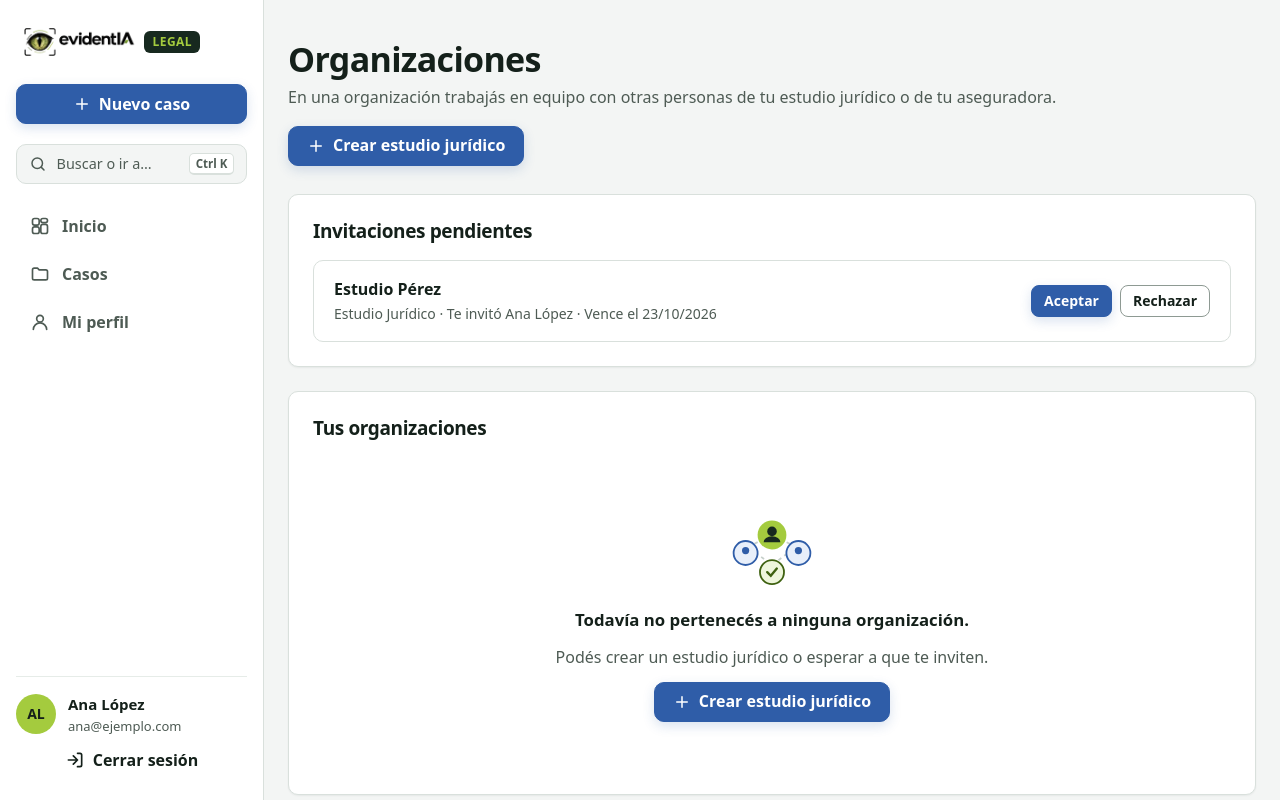
it: mis organizaciones › un error al responder se muestra
Click the button with aria-label "Aceptar la invitación" at (1072, 301), box [1031,285,1112,317]
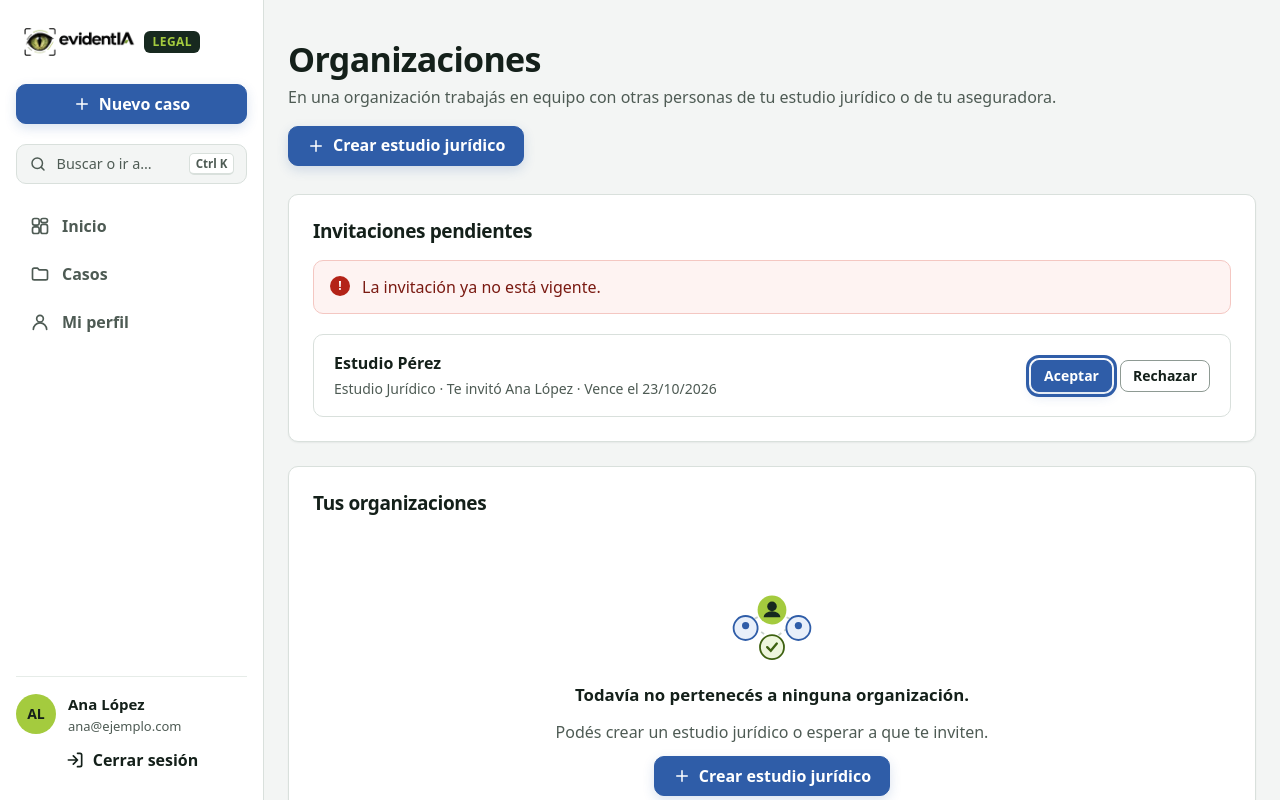
Now the message shows "ya no está vigente", box [362,276,601,298]
